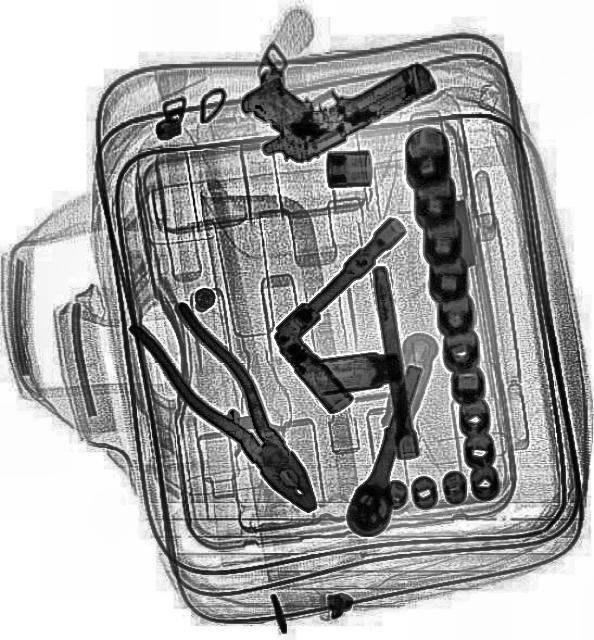Gun: (232, 10, 439, 176)
Pliers: (125, 287, 337, 528)
